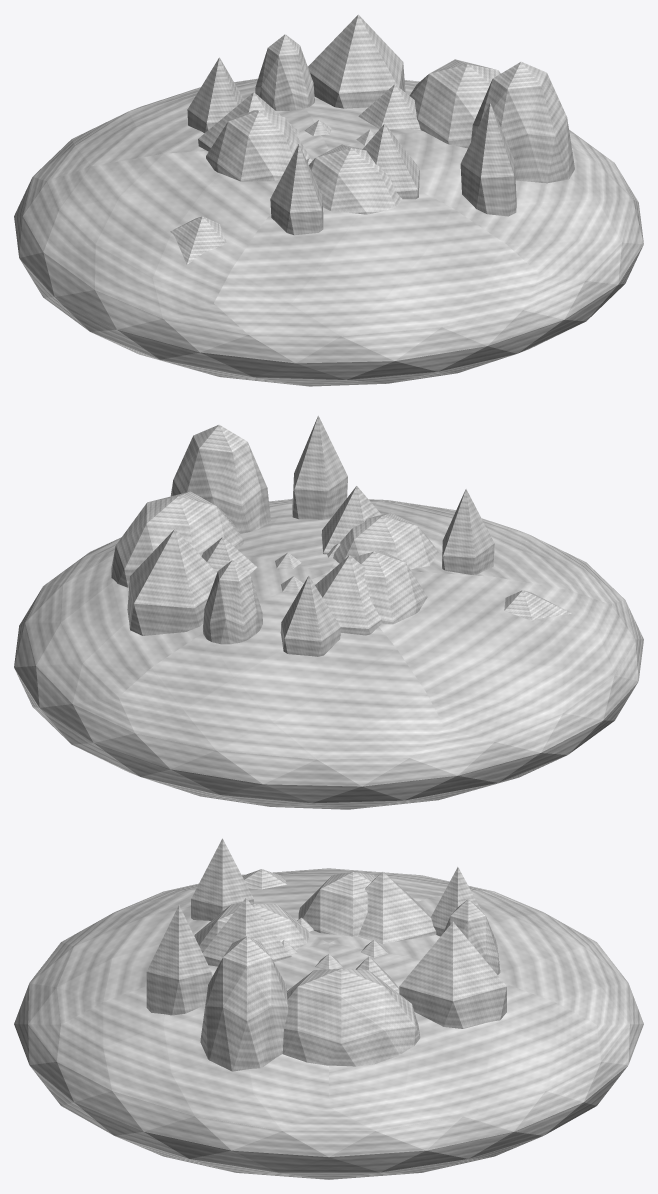
The model's file is raw_quartz_node_variant_c.glb.
The picture shows the model from 3 angles, top to bottom: view 1: azimuth 30°, elevation 25°; view 2: azimuth 150°, elevation 25°; view 3: azimuth 270°, elevation 25°; orthographic projection.
Visible parts, largest first — view 1: Resource node bedrock.002, Exposed ore formation.033, Exposed ore formation.023, Exposed ore formation.027, Exposed ore formation.021, Exposed ore formation.030, Exposed ore formation.032, Exposed ore formation.024, Exposed ore formation.029, Exposed ore formation.025, Exposed ore formation.031, Exposed ore formation.022 (+2 smaller); view 2: Resource node bedrock.002, Exposed ore formation.023, Exposed ore formation.033, Exposed ore formation.021, Exposed ore formation.032, Exposed ore formation.024, Exposed ore formation.030, Exposed ore formation.027, Exposed ore formation.025, Exposed ore formation.026, Exposed ore formation.029, Exposed ore formation.031 (+2 smaller); view 3: Resource node bedrock.002, Exposed ore formation.021, Exposed ore formation.033, Exposed ore formation.023, Exposed ore formation.032, Exposed ore formation.026, Exposed ore formation.027, Exposed ore formation.029, Exposed ore formation.031, Exposed ore formation.030, Exposed ore formation.024, Exposed ore formation.025 (+1 smaller).
Boxes of the visible parts, x1=… form: Resource node bedrock.002: x1=14, y1=78, x2=643, y2=386; Exposed ore formation.033: x1=471, y1=61, x2=574, y2=183; Exposed ore formation.023: x1=308, y1=14, x2=405, y2=108; Exposed ore formation.027: x1=206, y1=110, x2=309, y2=181; Exposed ore formation.021: x1=409, y1=59, x2=500, y2=148; Exposed ore formation.030: x1=309, y1=144, x2=402, y2=214; Exposed ore formation.032: x1=460, y1=102, x2=516, y2=216; Exposed ore formation.024: x1=255, y1=34, x2=314, y2=110; Exposed ore formation.029: x1=270, y1=144, x2=323, y2=235; Exposed ore formation.025: x1=187, y1=57, x2=244, y2=133; Exposed ore formation.031: x1=362, y1=123, x2=419, y2=199; Exposed ore formation.022: x1=358, y1=84, x2=420, y2=129; Resource node bedrock.002: x1=14, y1=499, x2=643, y2=809; Exposed ore formation.023: x1=127, y1=529, x2=216, y2=635; Exposed ore formation.033: x1=170, y1=424, x2=270, y2=533; Exposed ore formation.021: x1=111, y1=491, x2=243, y2=587; Exposed ore formation.032: x1=292, y1=415, x2=347, y2=519; Exposed ore formation.024: x1=203, y1=560, x2=262, y2=644; Exposed ore formation.030: x1=333, y1=512, x2=438, y2=569; Exposed ore formation.027: x1=353, y1=551, x2=427, y2=624; Exposed ore formation.025: x1=280, y1=575, x2=340, y2=656; Exposed ore formation.026: x1=315, y1=555, x2=381, y2=635; Exposed ore formation.029: x1=442, y1=489, x2=494, y2=574; Exposed ore formation.031: x1=321, y1=486, x2=381, y2=554; Resource node bedrock.002: x1=14, y1=868, x2=643, y2=1179; Exposed ore formation.021: x1=282, y1=968, x2=420, y2=1066; Exposed ore formation.033: x1=200, y1=936, x2=288, y2=1071; Exposed ore formation.023: x1=399, y1=922, x2=506, y2=1028; Exposed ore formation.032: x1=146, y1=905, x2=211, y2=1015; Exposed ore formation.026: x1=358, y1=872, x2=436, y2=943; Exposed ore formation.027: x1=298, y1=872, x2=375, y2=936; Exposed ore formation.029: x1=191, y1=838, x2=253, y2=920; Exposed ore formation.031: x1=202, y1=898, x2=291, y2=966; Exposed ore formation.030: x1=194, y1=904, x2=309, y2=952; Exposed ore formation.024: x1=443, y1=899, x2=500, y2=974; Exposed ore formation.025: x1=430, y1=867, x2=481, y2=936.
Size of what is drawn, in the model's own units: 6 by 2.54 by 6.
2 materials, 2 textured.
